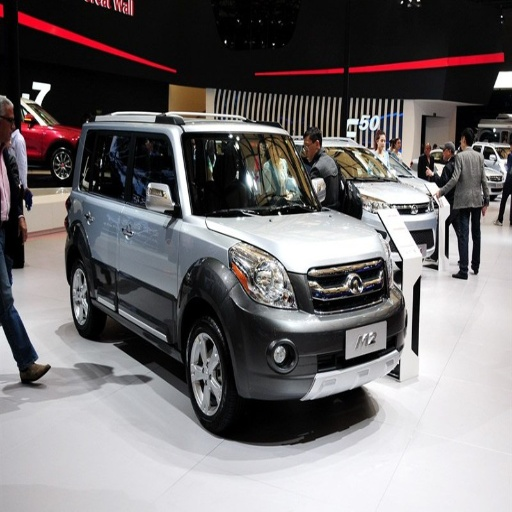front_bumper: (230, 255, 408, 442)
front_right_door: (118, 132, 178, 336)
front_right_light: (230, 243, 299, 308)
hood: (207, 210, 390, 272)
